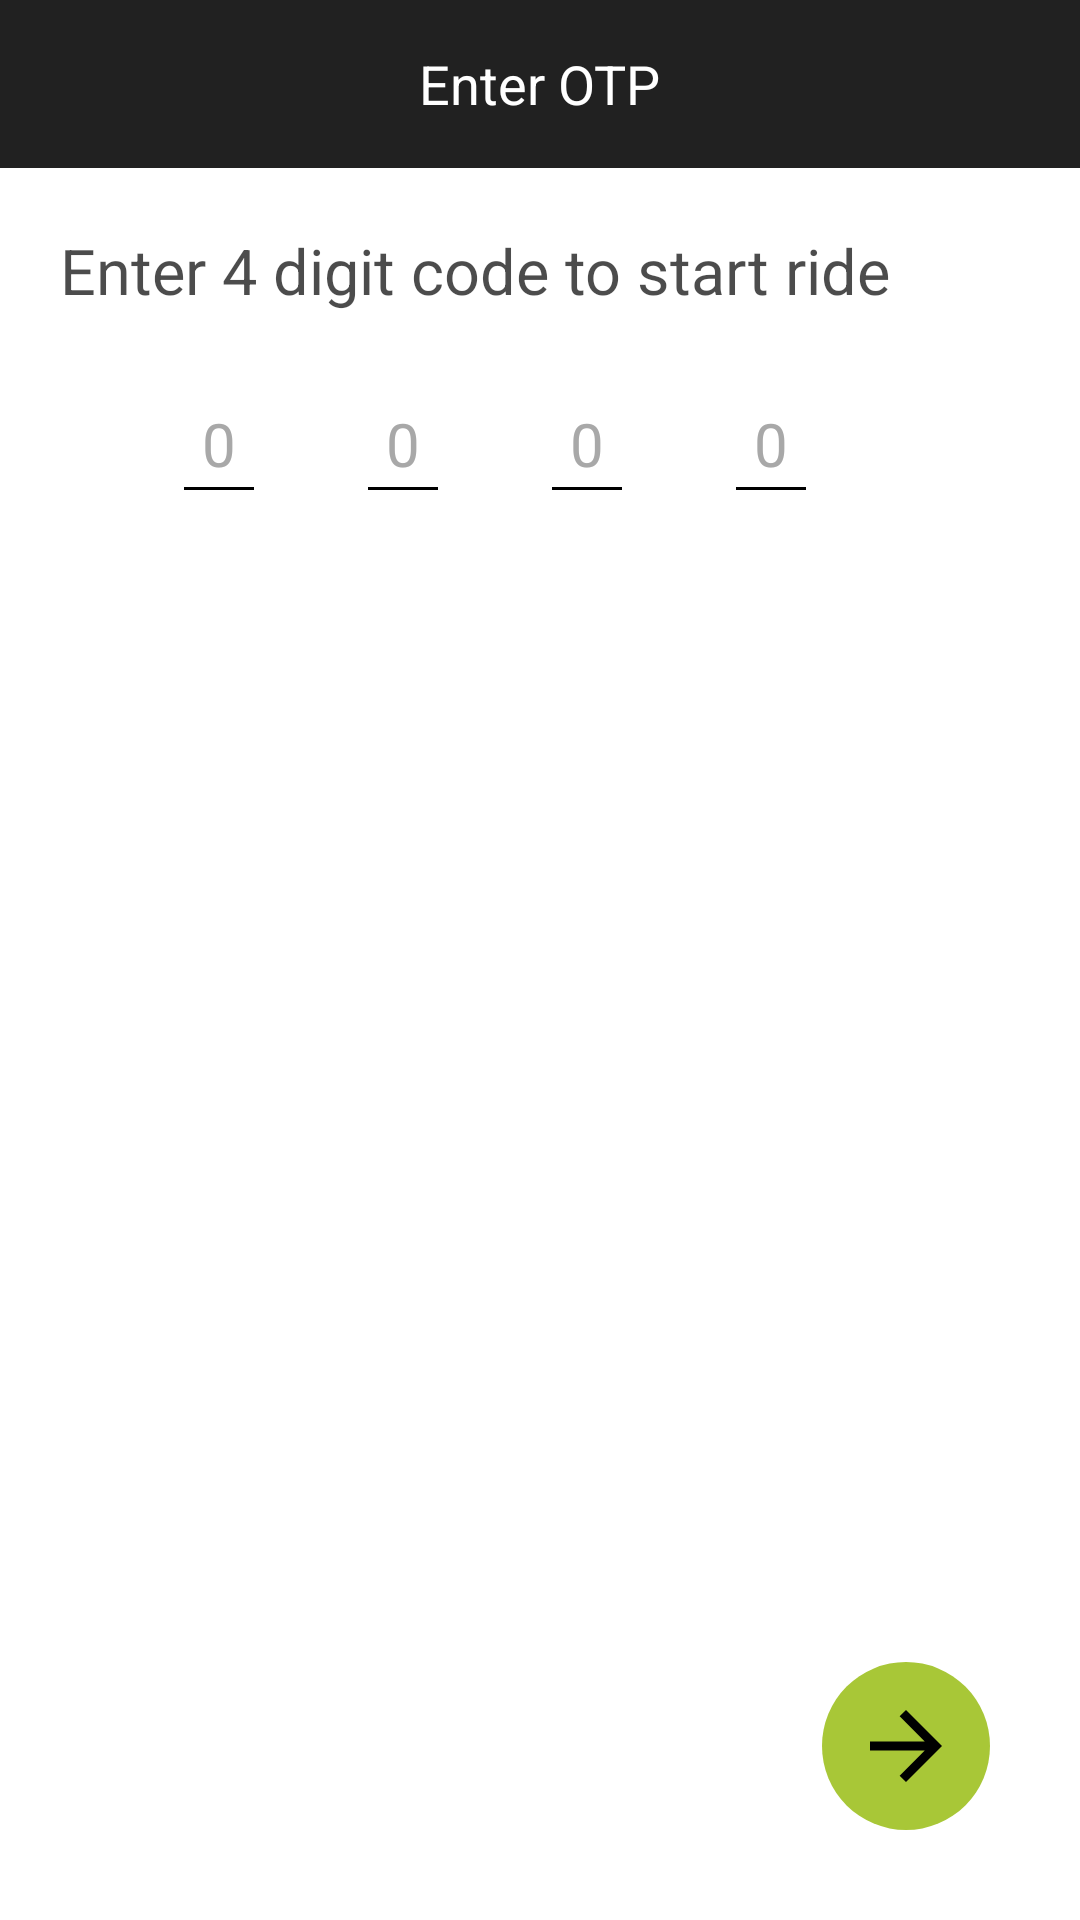

Named icons in this screenshot (1080px×1920px) and their bounding boxes, box=[x1, y1, x2, y2]:
circular arrow forward: box=[822, 1662, 990, 1830]
